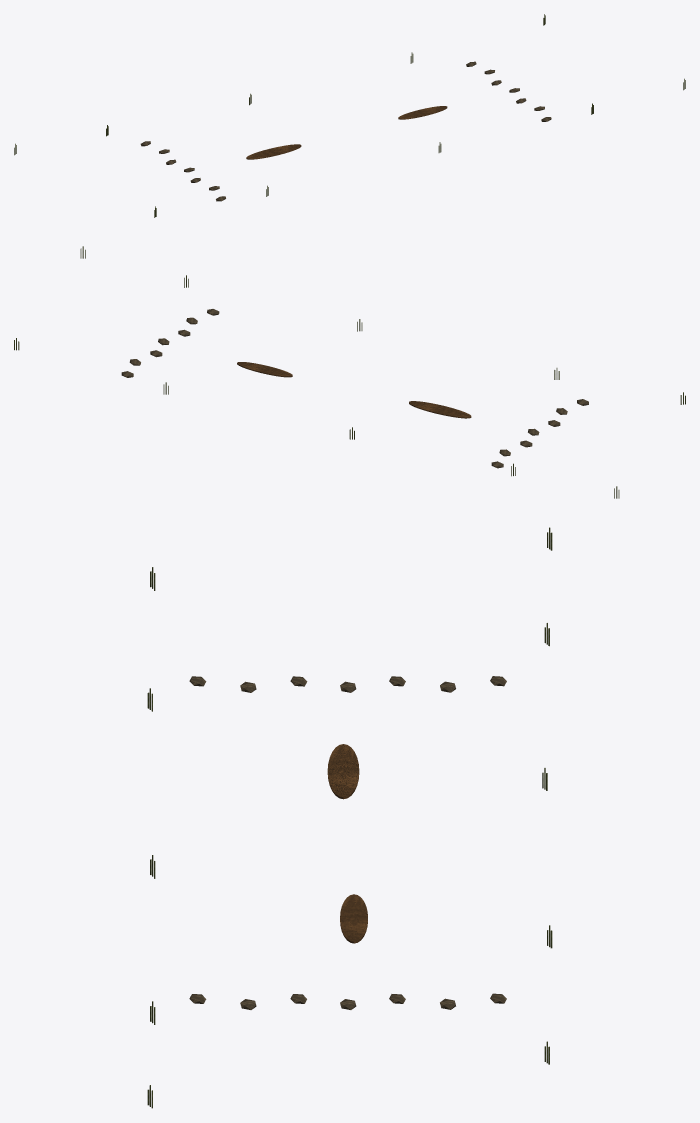
File: floodplain_dressing_pack.glb
3 views of the same model, one above another, from view 1: azimuth 30°, elevation 25°; view 2: azimuth 150°, elevation 25°; view 3: azimuth 270°, elevation 25° (orthographic). The views are drawn at different scales.
Visible parts, largest first — view 1: floodplain_dressing_pack; view 2: floodplain_dressing_pack; view 3: floodplain_dressing_pack.
Part boxes in pixels (left/top/right/bottom): floodplain_dressing_pack: left=14, top=14, right=685, bottom=217; floodplain_dressing_pack: left=14, top=246, right=685, bottom=498; floodplain_dressing_pack: left=147, top=527, right=552, bottom=1108.
Bounding box in the file's own units: 56.35 × 2.1 × 17.22.
Materials: 1 (1 with a texture image).
